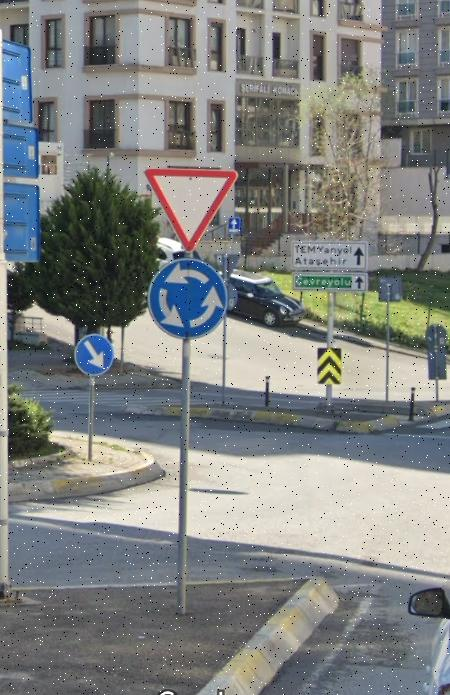crossroads: (151, 254, 225, 339)
